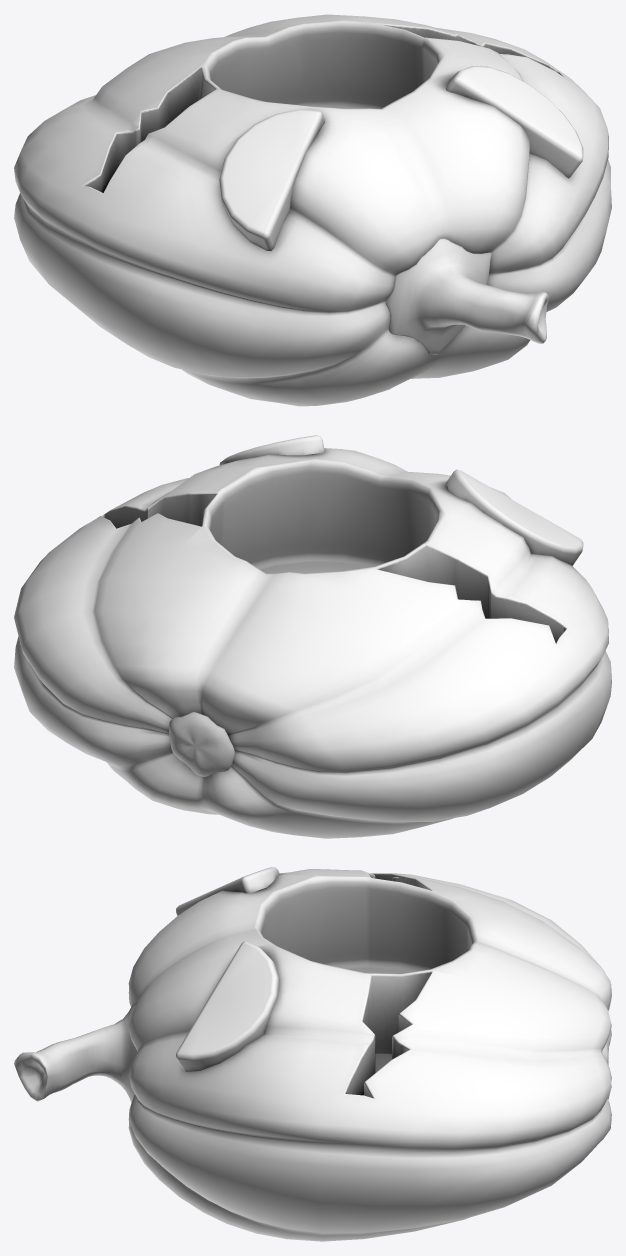
File: Pin_Model_20.fbx
The picture shows the model from 3 angles, top to bottom: view 1: azimuth 30°, elevation 25°; view 2: azimuth 150°, elevation 25°; view 3: azimuth 270°, elevation 25°; orthographic projection. The views are drawn at different scales.
Parts seen in each view (by area): view 1: pin bi ngo; view 2: pin bi ngo; view 3: pin bi ngo.
Part boxes in pixels (<box>): pin bi ngo: <box>14,14,611,406</box>; pin bi ngo: <box>14,435,611,838</box>; pin bi ngo: <box>14,867,611,1241</box>.
Bounding box in the file's own units: 0.6119 × 0.3362 × 0.6381.
Materials: 2 (2 with a texture image).
